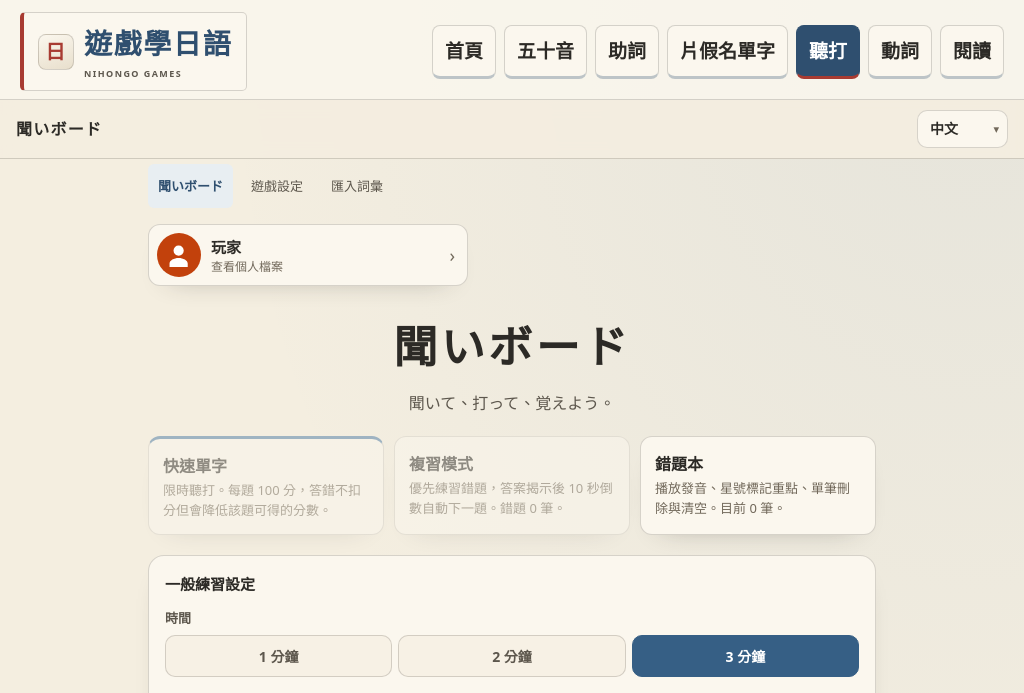
Test case: 二、切換語言立即生效並保留設定 › 三種語言都能切換且介面立即改變
This screenshot has width=1024, height=693.
Select "日本語" in the dropdown with class "lang-switch__select" at [962, 129], box [917,110,1008,148]
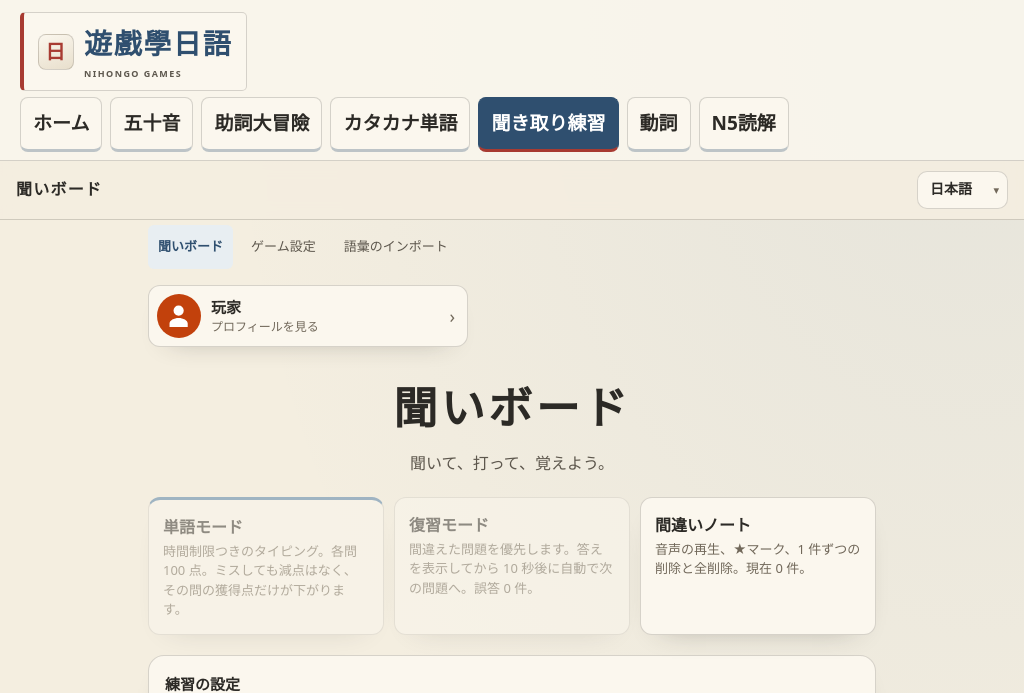
Check: the text "単語モード" is shown, box [163,514,243,538]
Check: the text "快速單字" is gone
Select "English" in the dropdown with class "lang-switch__select" at [962, 190], box [917,171,1008,209]
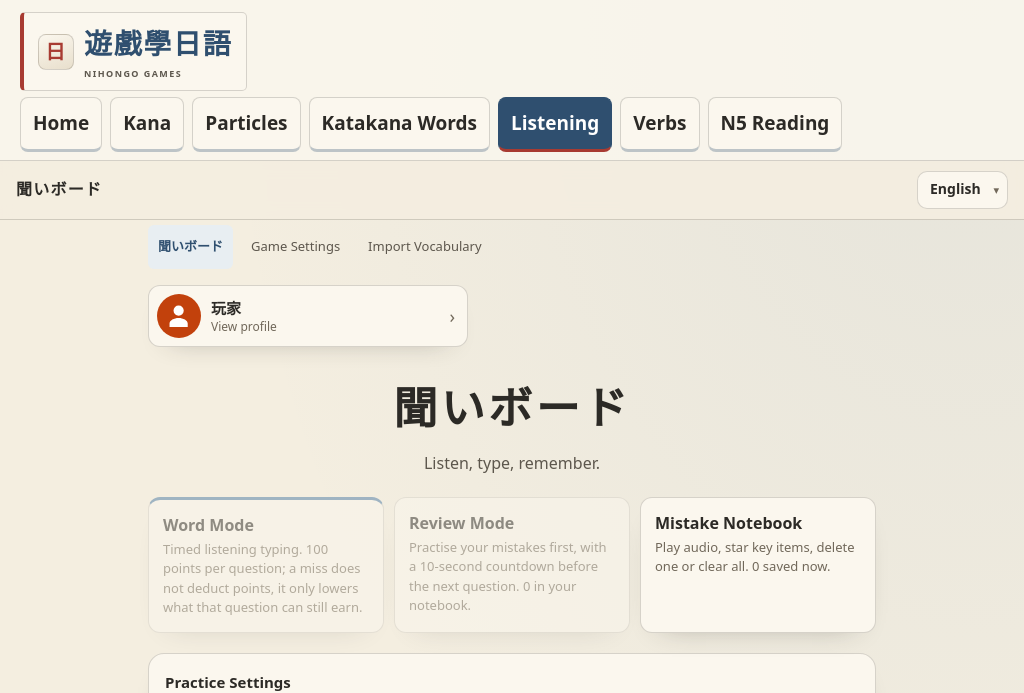
Check: the text "Word Mode" is shown, box [163,514,254,536]
Check: the text "単語モード" is gone
Select "中文" in the dropdown with class "lang-switch__select" at [962, 190], box [917,171,1008,209]
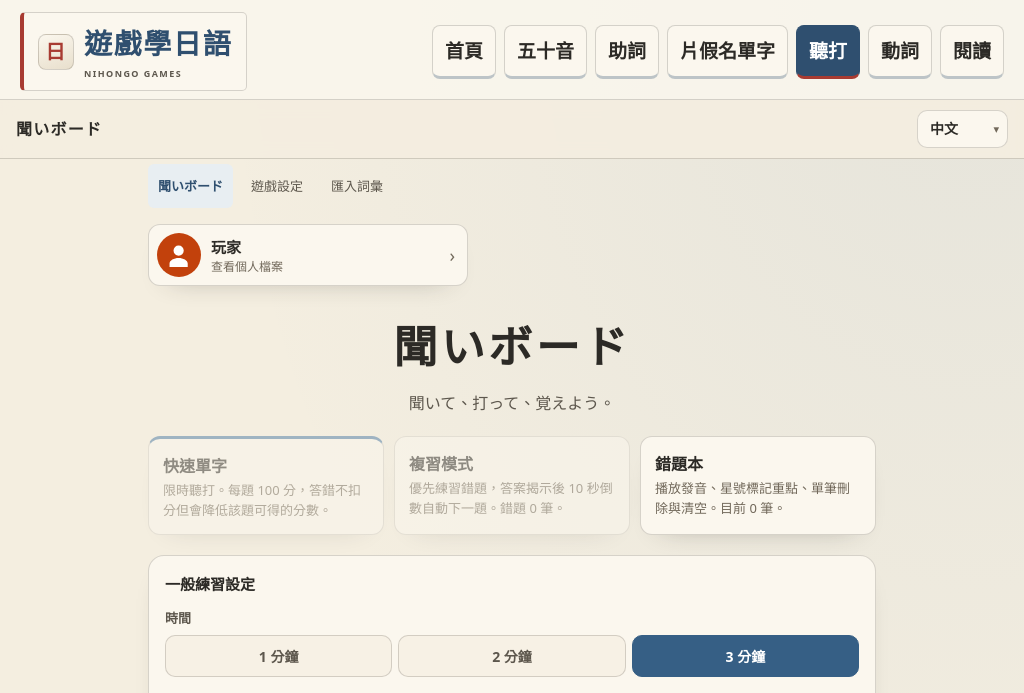
Check: the text "快速單字" is shown, box [163,453,227,477]
